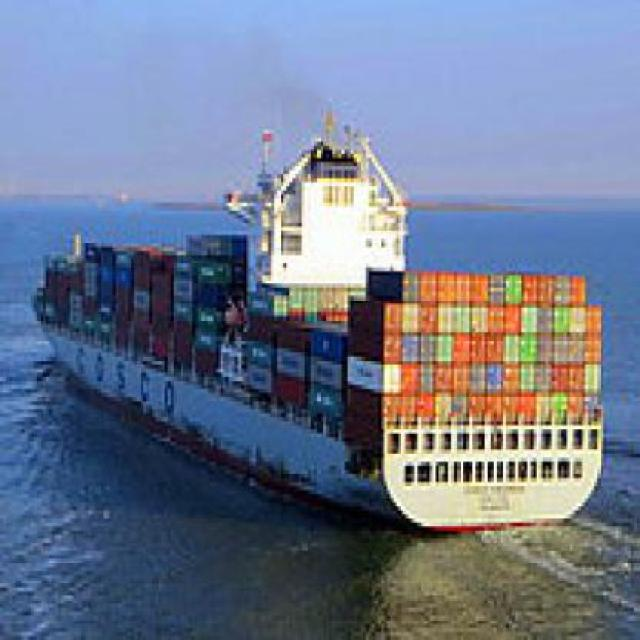container: (19, 98, 614, 544)
